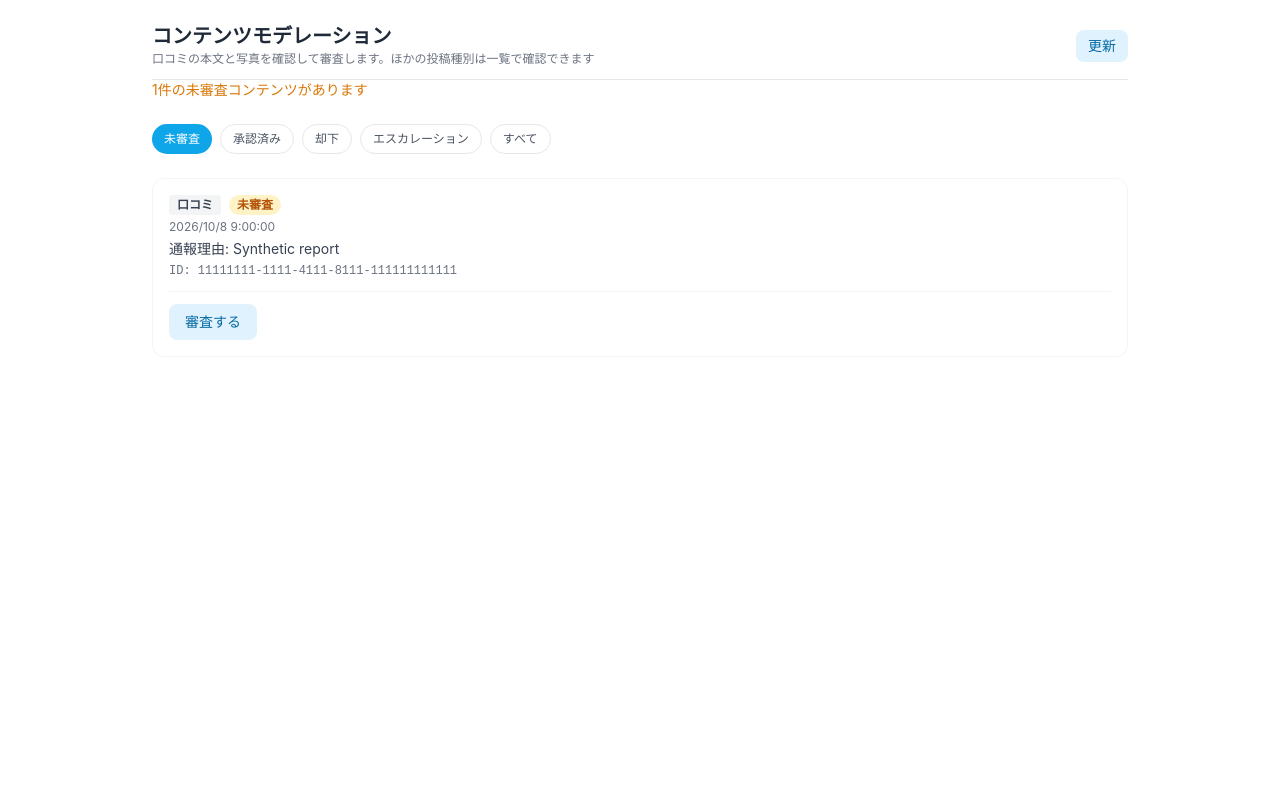
lost response followed by competing decision leaves original expected status and requires reload
The image size is (1280, 800).
What coordinates should you click on to do the following:
click the button "審査する"
I would click on:
 (213, 322)
Its box is [169,304,257,340].
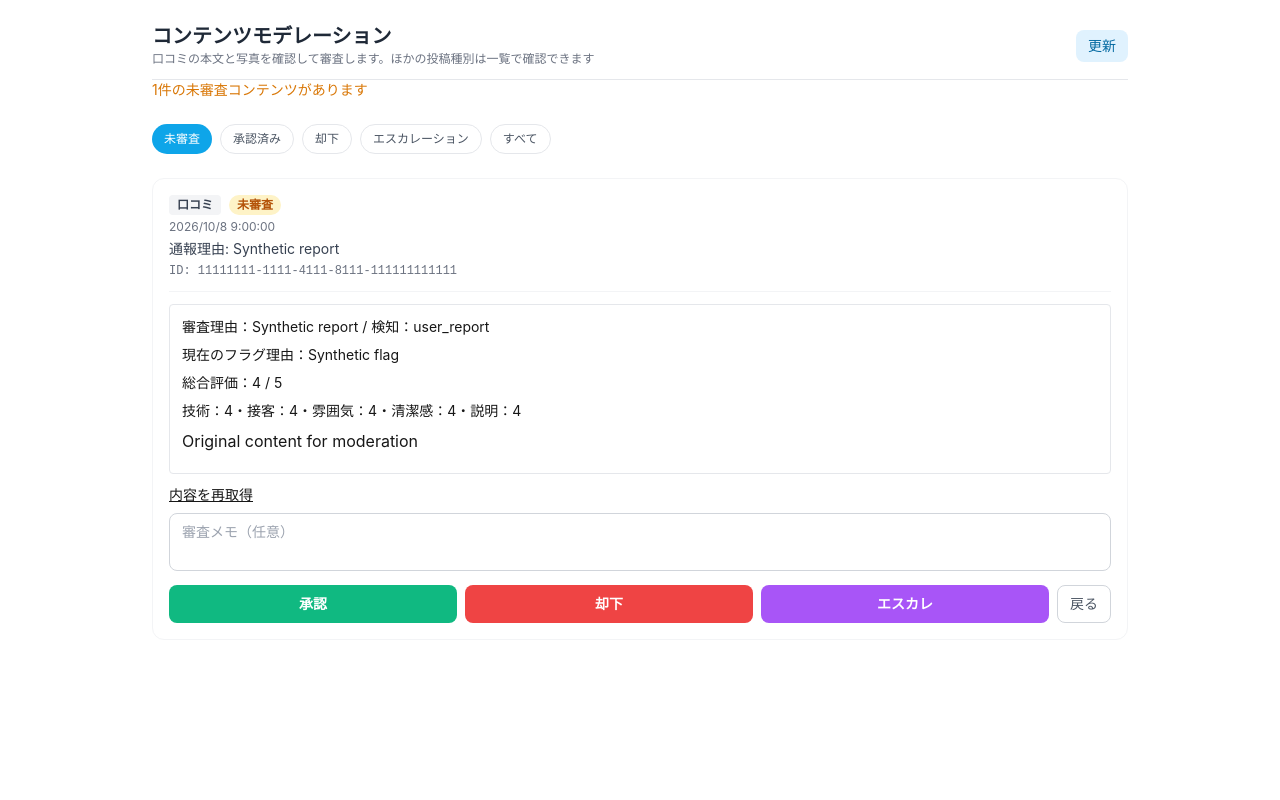
expect the text "Original content for moderation" is shown: met, box [182,431,418,451]
What coordinates should you click on to do the following:
click the button "承認"
I would click on:
 (313, 604)
Its box is [169,585,457,623].
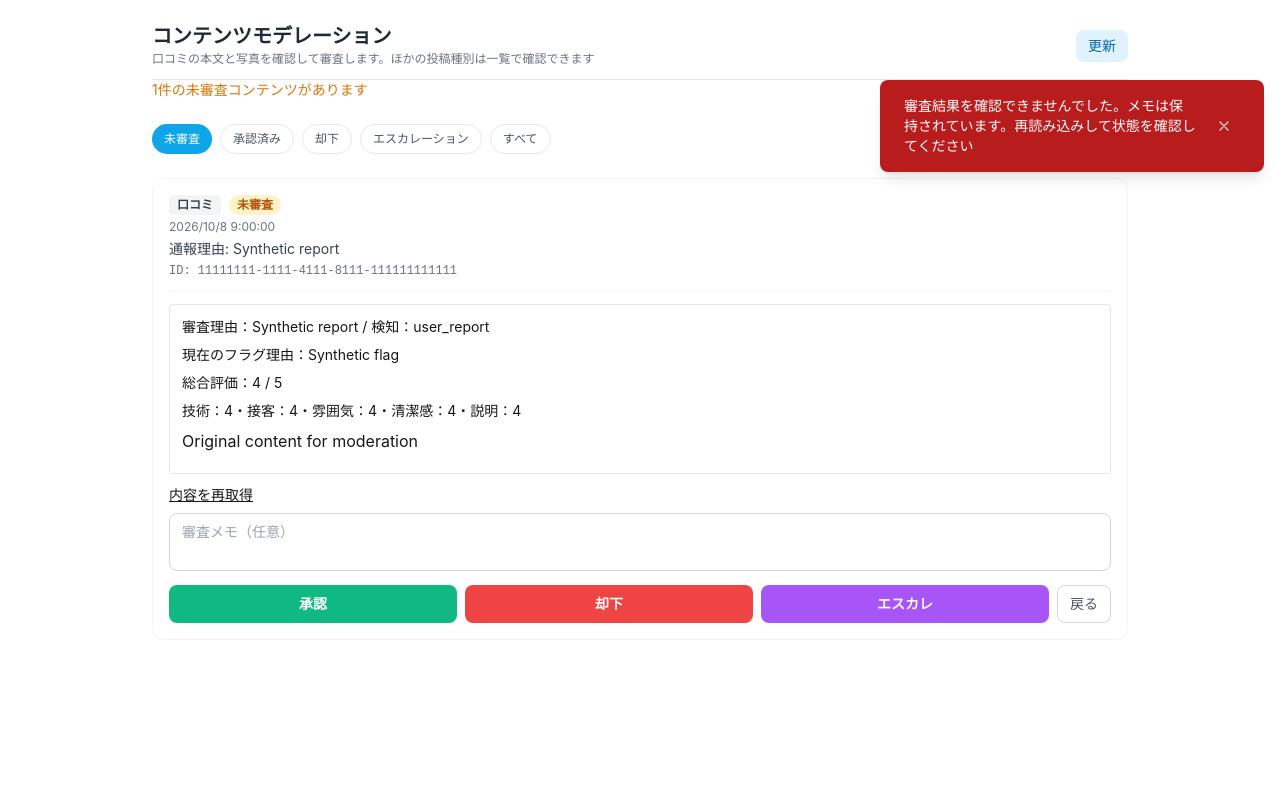
expect the button "承認" is enabled: met
expect the text "審査結果を確認できませんでした。メモは保持されています。再読み込みして状態を確認してください" is shown: met, box [904,96,1196,156]
What coordinates should you click on to do the following:
click the button "承認"
I would click on:
 (313, 604)
Its box is [169,585,457,623].
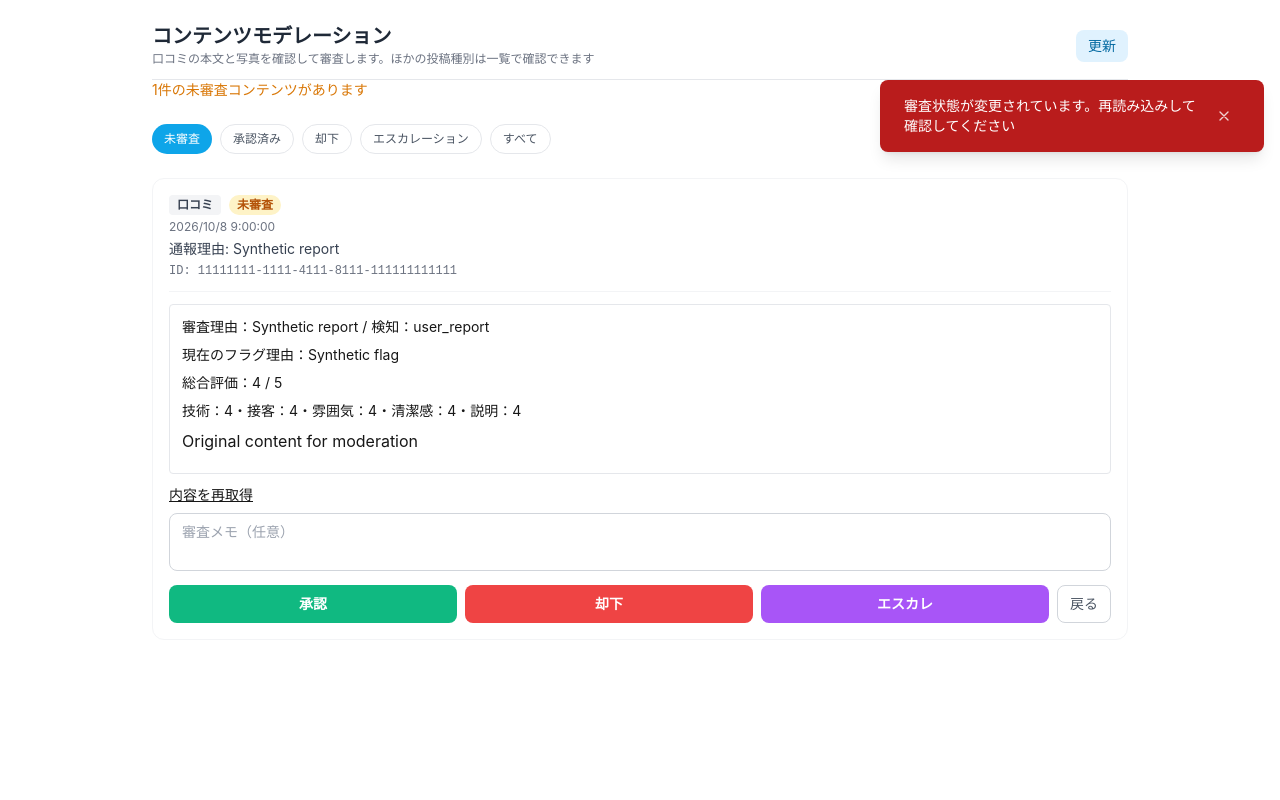
expect the text "審査状態が変更されています。再読み込みして確認してください" is shown: met, box [904,96,1196,136]
